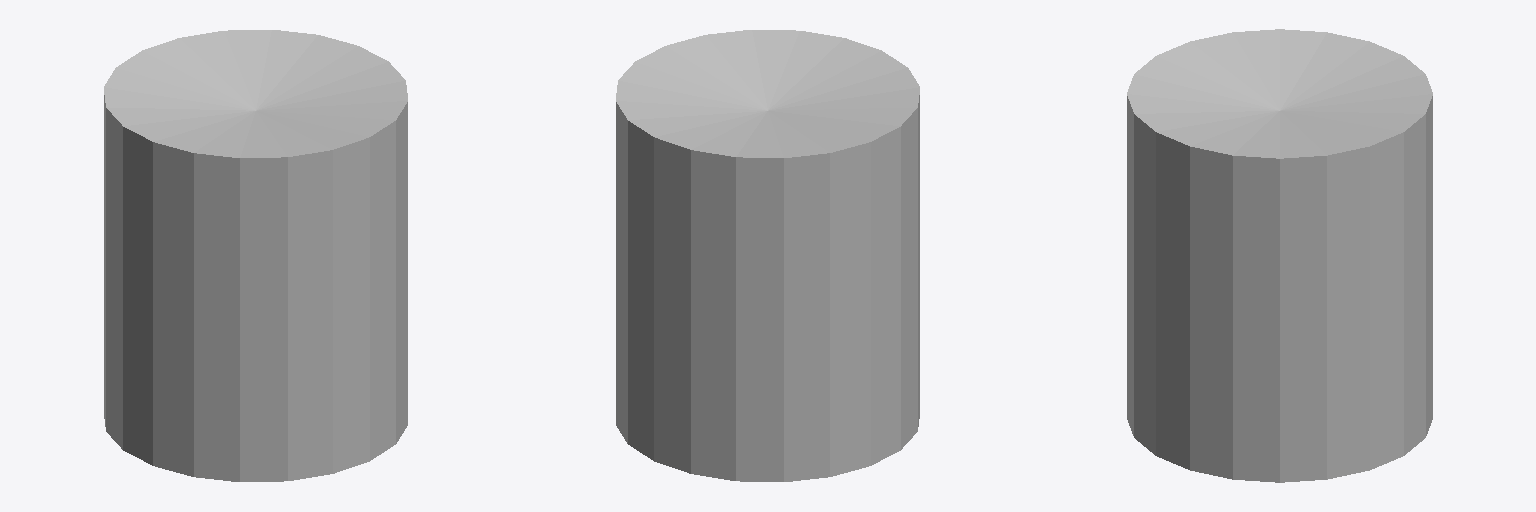
File: water.obj
3 views of the same model, side by side, from view 1: azimuth 30°, elevation 25°; view 2: azimuth 150°, elevation 25°; view 3: azimuth 270°, elevation 25° (orthographic).
Visible parts, largest first — view 1: pCylinder1; view 2: pCylinder1; view 3: pCylinder1.
Part boxes in pixels (x1,y1,x2,y2): pCylinder1: (104, 30, 407, 481); pCylinder1: (616, 30, 919, 481); pCylinder1: (1127, 29, 1432, 482).
Bounding box in the file's own units: 1.88 × 2.19 × 1.88.